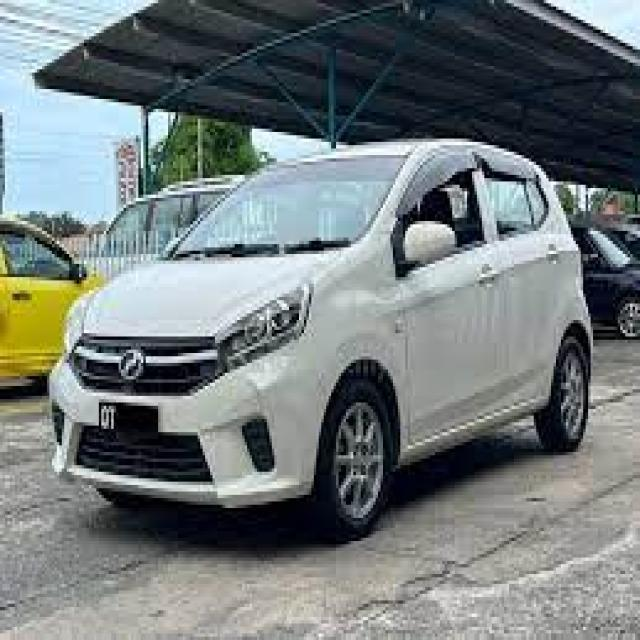PeroduaAxia: (44, 132, 594, 538)
